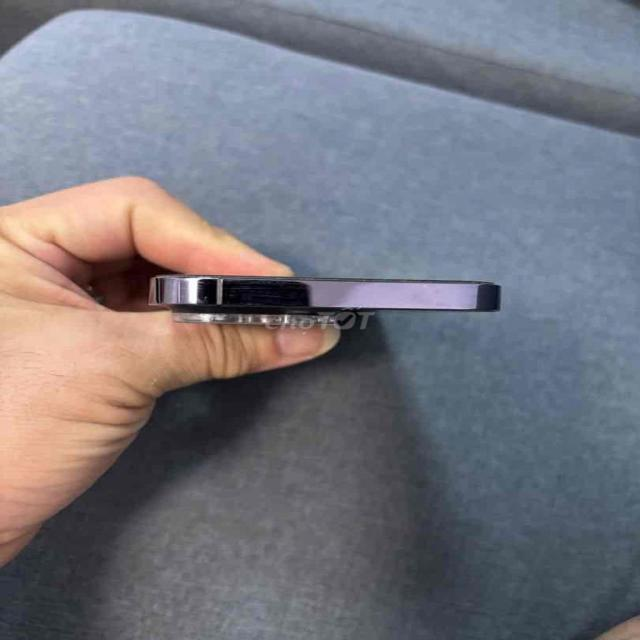gen_14: (136, 268, 531, 336)
